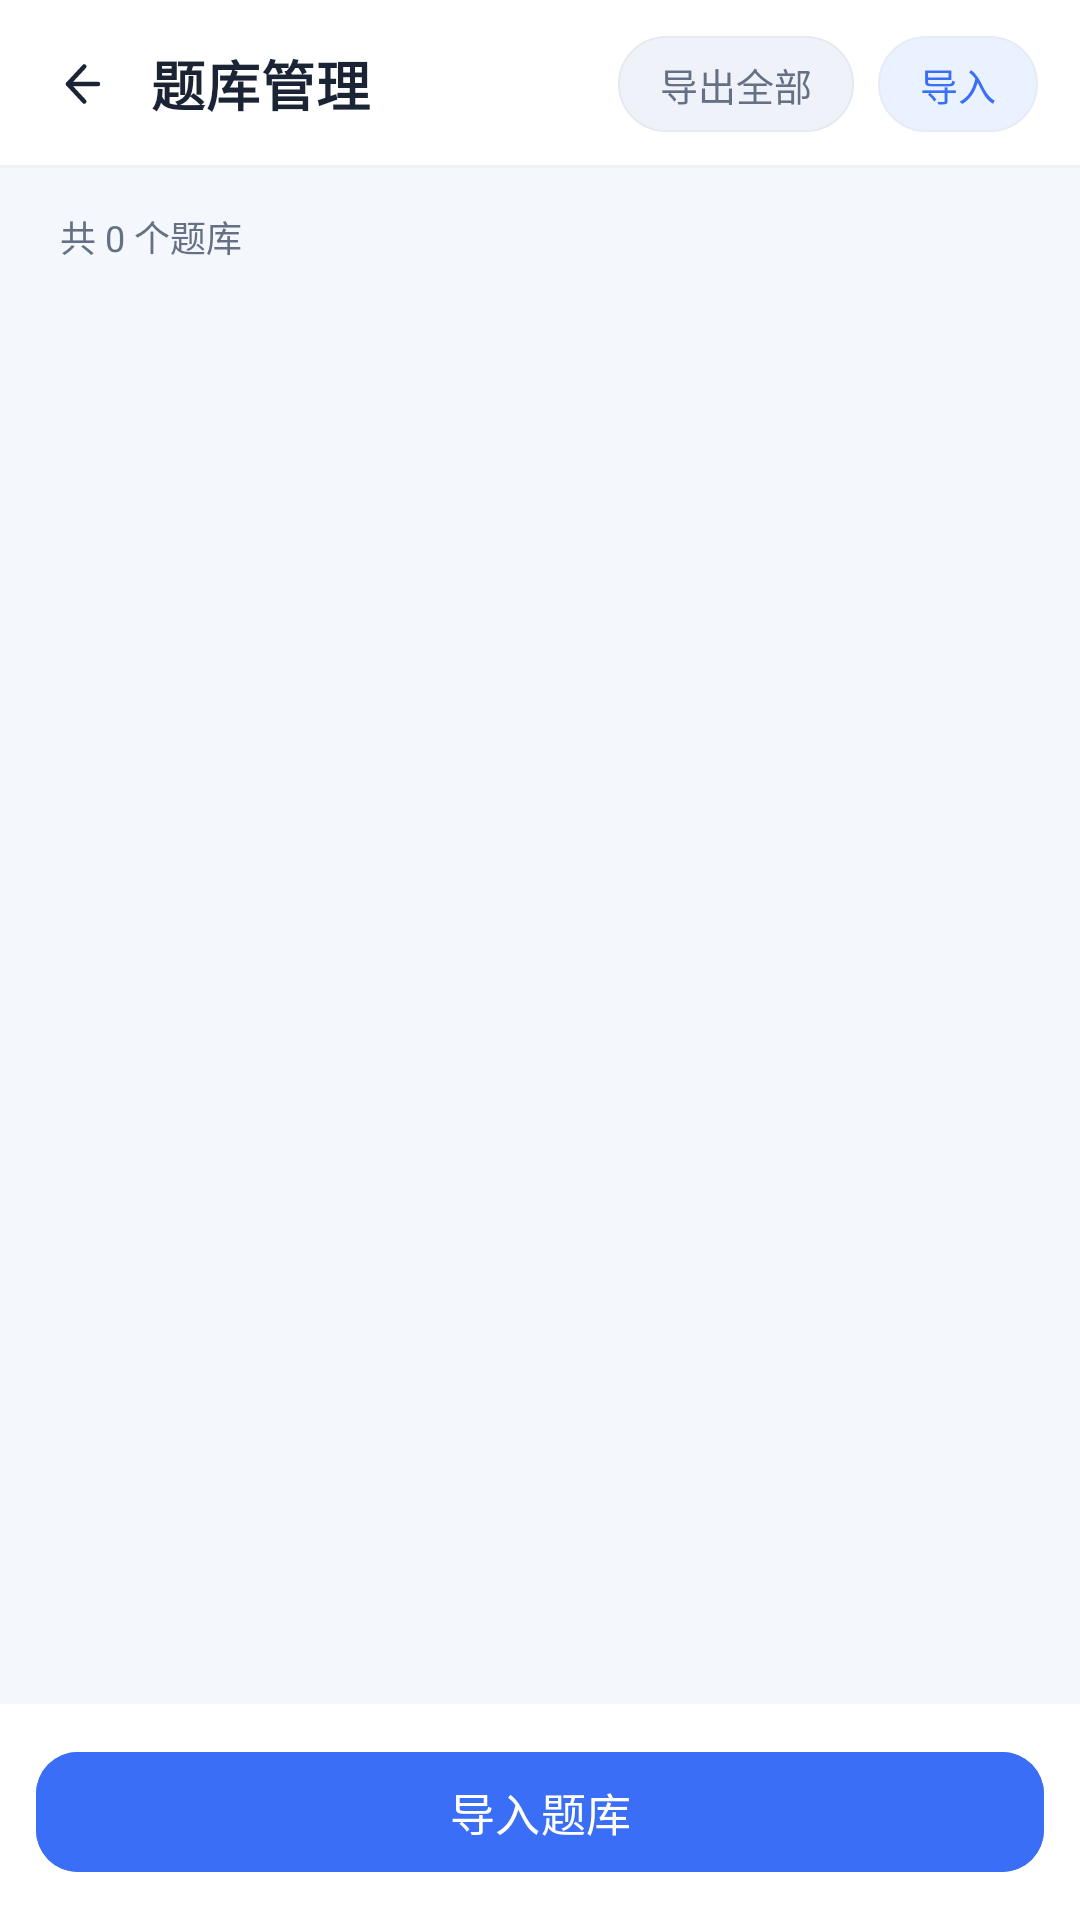

Where icons sit on this 1080w x 1920h app screen, as (x1, y1, x2, y2):
back: (65, 64, 100, 104)
